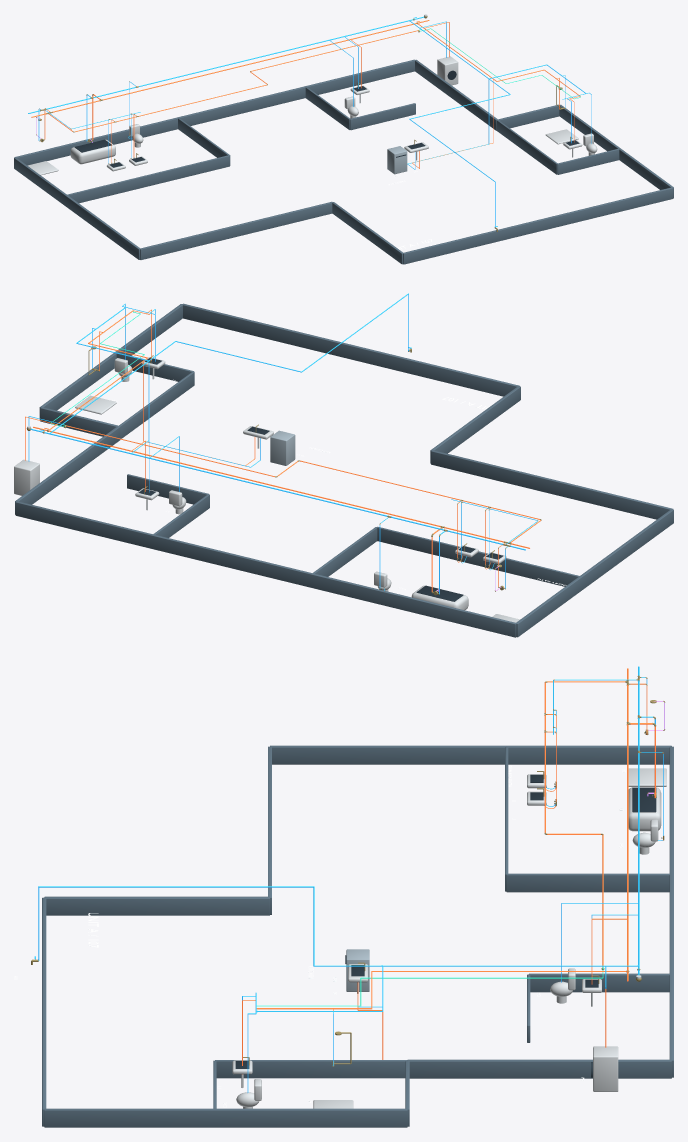
Rendered from unit.glb.
3 renders of one model, top to bottom at view 1: azimuth 30°, elevation 25°; view 2: azimuth 150°, elevation 25°; view 3: azimuth 270°, elevation 25°, orthographic. The views are drawn at different scales.
Visible parts, largest first — view 1: unit-outline-0, unit-outline-4, unit-outline-6, partition-0, unit-outline-7, unit-outline-3, unit-outline-1, unit-outline-5, partition-3, master-bath, partition-4, partition-5 (+8 smaller); view 2: unit-outline-0, unit-outline-4, unit-outline-6, partition-0, unit-outline-7, unit-outline-3, unit-outline-1, unit-outline-5, partition-4, unit-outline-2, A-hot-master, A-cold-master (+9 smaller); view 3: unit-outline-7, unit-outline-3, unit-outline-1, unit-outline-5, partition-4, partition-1, partition-2, unit-outline-0, master-bath, washer, unit-outline-4, A-hosebib-trunk (+4 smaller).
Part boxes in pixels (box(x1,y1,x2,y2)): unit-outline-0: box(14, 59, 415, 165); unit-outline-4: box(403, 187, 673, 264); unit-outline-6: box(140, 201, 332, 259); partition-0: box(67, 155, 229, 203); unit-outline-7: box(14, 157, 139, 259); unit-outline-3: box(559, 104, 673, 197); unit-outline-1: box(415, 59, 497, 130); unit-outline-5: box(332, 202, 402, 264); partition-3: box(350, 103, 415, 130); master-bath: box(70, 139, 115, 164); partition-4: box(497, 120, 557, 174); partition-5: box(557, 148, 619, 174); unit-outline-0: box(15, 501, 516, 637); unit-outline-4: box(182, 303, 520, 396); unit-outline-6: box(431, 450, 673, 519); partition-0: box(377, 526, 580, 586); unit-outline-7: box(516, 509, 673, 637); unit-outline-3: box(39, 304, 182, 419); unit-outline-1: box(15, 426, 120, 514); unit-outline-5: box(430, 386, 520, 463); partition-4: box(119, 371, 194, 438); unit-outline-2: box(40, 407, 118, 436); A-hot-master: box(33, 426, 529, 548); A-cold-master: box(30, 428, 525, 550); unit-outline-7: box(270, 745, 671, 764); unit-outline-3: box(44, 1108, 407, 1127); unit-outline-1: box(407, 1059, 671, 1078); unit-outline-5: box(44, 896, 269, 915); partition-4: box(215, 1060, 407, 1078); partition-1: box(506, 873, 669, 892); partition-2: box(528, 973, 669, 992); unit-outline-0: box(669, 746, 673, 1077); master-bath: box(628, 787, 661, 831); washer: box(591, 1046, 618, 1091); unit-outline-4: box(42, 897, 46, 1126); A-hosebib-trunk: box(38, 886, 382, 966).
Size of the model in its own units: 20.47 by 2.82 by 15.65.
